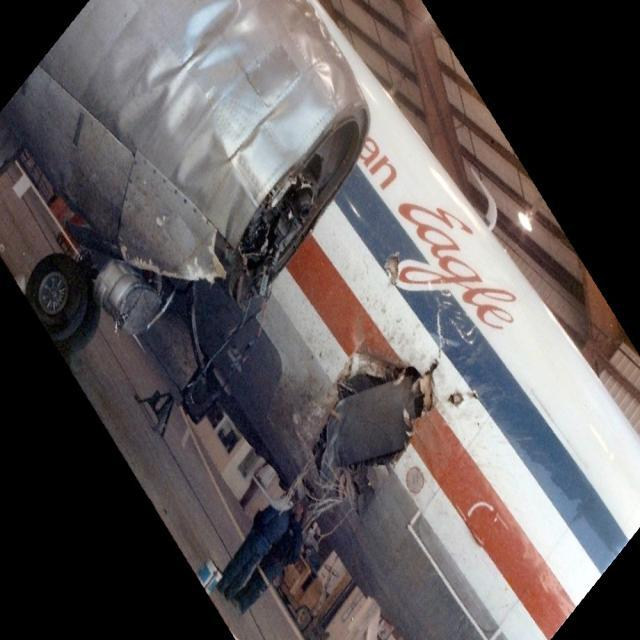dent: (141, 3, 241, 111), (241, 86, 321, 180), (178, 129, 233, 189)
